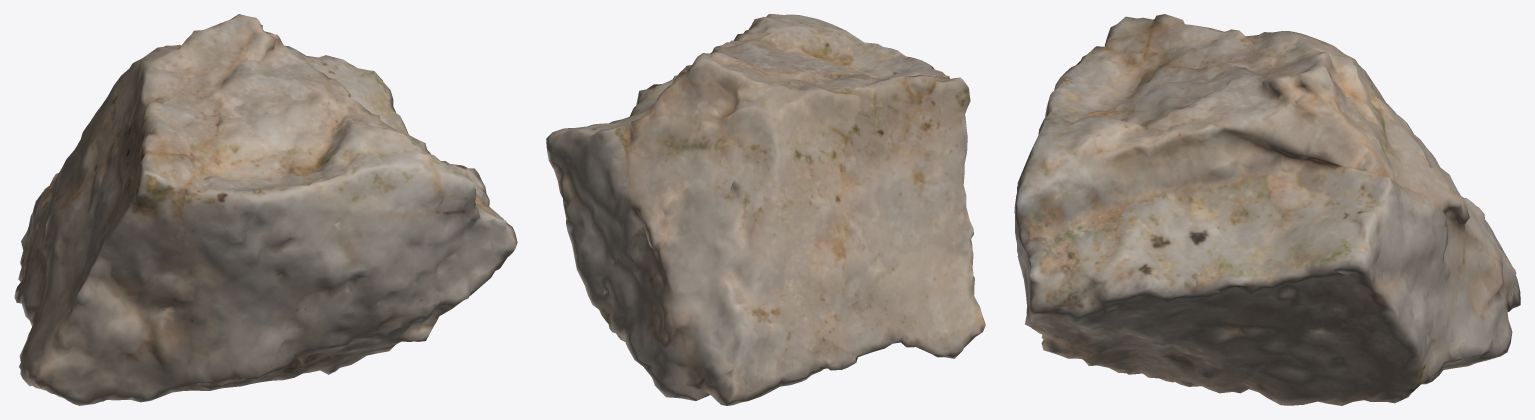
Rendered from namaqualand_stones_01_e.glb.
The picture shows the model from 3 angles, left to right: view 1: azimuth 30°, elevation 25°; view 2: azimuth 150°, elevation 25°; view 3: azimuth 270°, elevation 25°; orthographic projection. The views are drawn at different scales.
Parts seen in each view (by area): view 1: namaqualand_stones_01_e_LOD0; view 2: namaqualand_stones_01_e_LOD0; view 3: namaqualand_stones_01_e_LOD0.
Boxes of the visible parts, bbox=[...] form: namaqualand_stones_01_e_LOD0: bbox=[14, 14, 517, 405]; namaqualand_stones_01_e_LOD0: bbox=[546, 14, 985, 405]; namaqualand_stones_01_e_LOD0: bbox=[1014, 14, 1520, 405].
Size of the model in its own units: 0.1109 by 0.0767 by 0.1121.
1 material, 1 textured.
